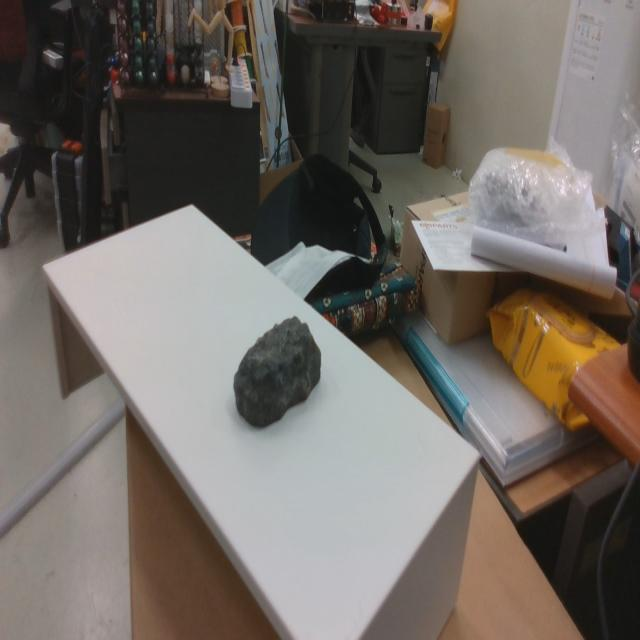stone: (234, 316, 322, 429)
